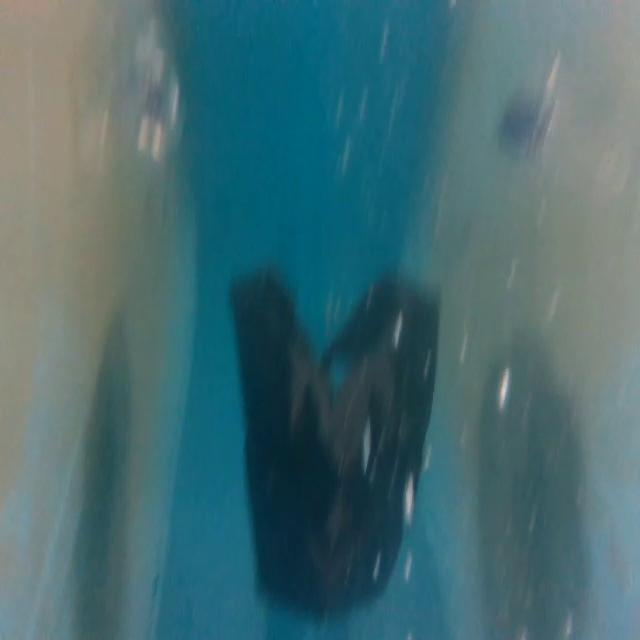plastic bags: (227, 265, 442, 623)
